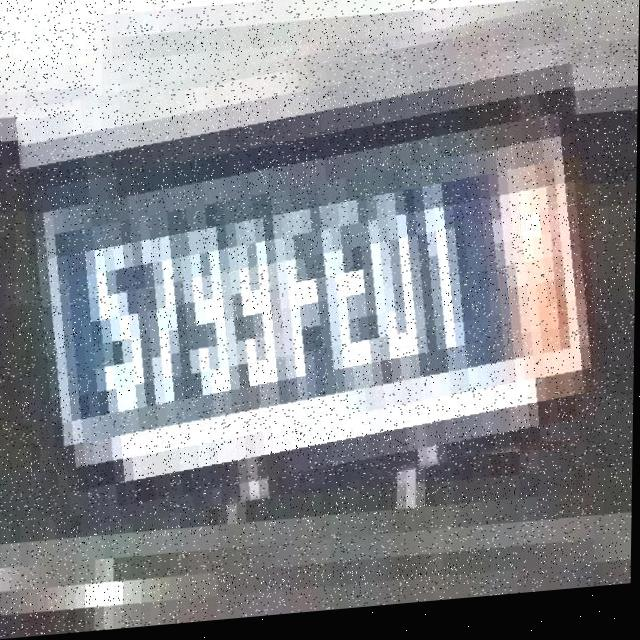LicensePlate: (22, 27, 601, 529)
